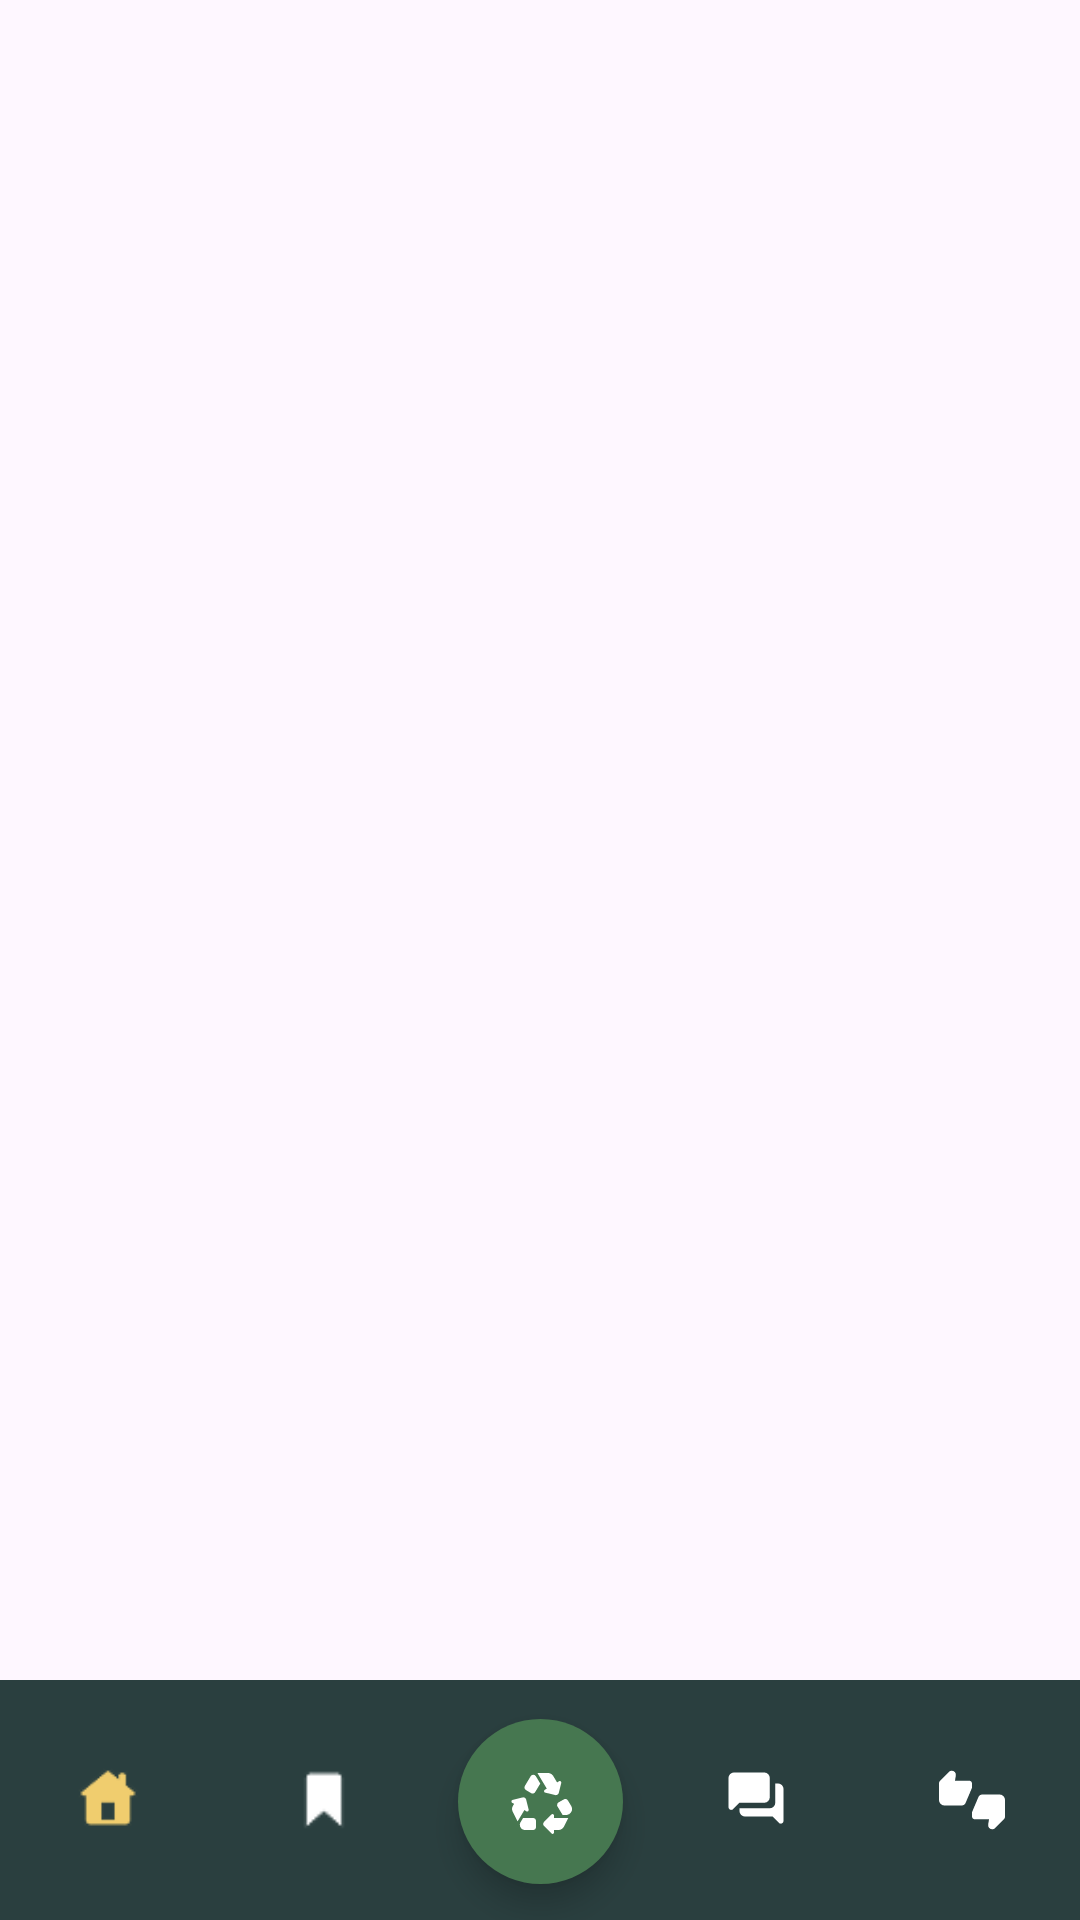

Locate icon controls on the screen. Image size 1080px x 1920px, boxes as (x1, y1, x2, y2).
recyclemenu: (458, 1719, 623, 1884)
